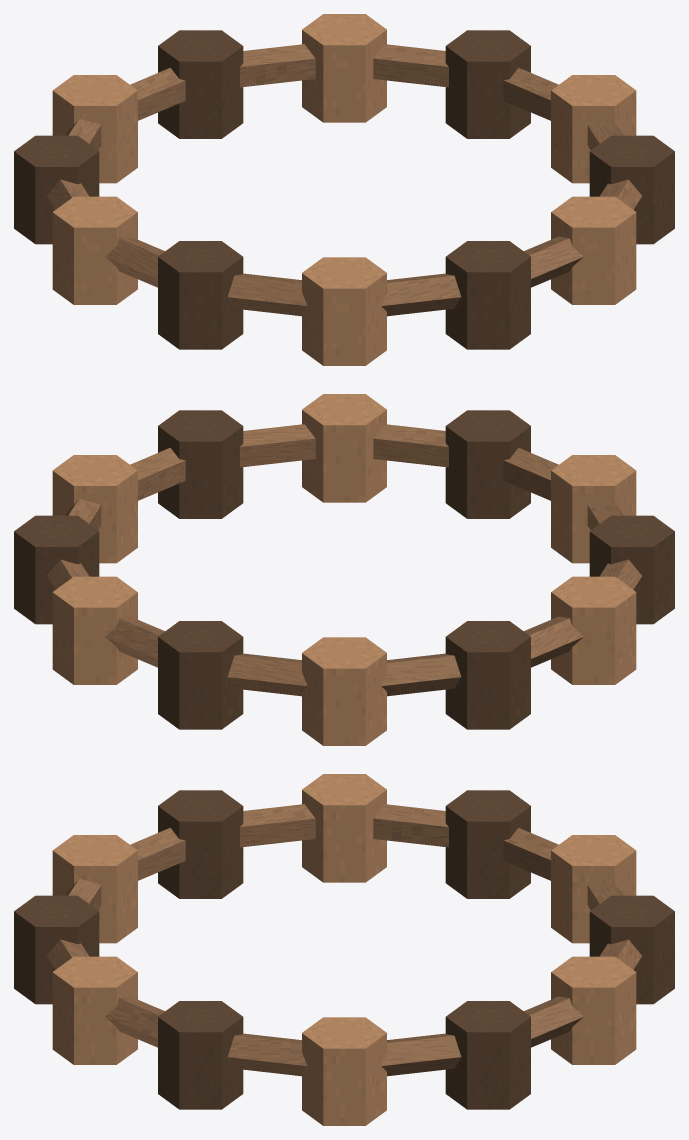
Rendered from bead_bracelet.glb.
3 views of the same model, one above another, from view 1: azimuth 30°, elevation 25°; view 2: azimuth 150°, elevation 25°; view 3: azimuth 270°, elevation 25° (orthographic).
Visible parts, largest first — view 1: block_bead 4, block_bead 3, block_bead 5, block_bead 10, block_bead 2, block_bead 6, block_bead 9, block_bead 11, block_bead 1, block_bead 7, block_bead 0, block_bead 8 (+12 smaller); view 2: block_bead 8, block_bead 7, block_bead 9, block_bead 2, block_bead 6, block_bead 10, block_bead 1, block_bead 3, block_bead 5, block_bead 11, block_bead 0, block_bead 4 (+12 smaller); view 3: block_bead 0, block_bead 1, block_bead 11, block_bead 6, block_bead 2, block_bead 10, block_bead 5, block_bead 7, block_bead 3, block_bead 9, block_bead 4, block_bead 8 (+12 smaller).
Boxes of the visible parts, box(x1,y1,x2,y2) form: block_bead 4: box(302, 257, 386, 365); block_bead 3: box(445, 241, 530, 349); block_bead 5: box(158, 241, 243, 349); block_bead 10: box(302, 14, 386, 122); block_bead 2: box(551, 196, 636, 304); block_bead 6: box(52, 196, 137, 304); block_bead 9: box(158, 30, 243, 138); block_bead 11: box(445, 30, 530, 138); block_bead 1: box(589, 135, 674, 244); block_bead 7: box(14, 135, 99, 244); block_bead 0: box(551, 75, 636, 183); block_bead 8: box(52, 75, 137, 183); block_bead 8: box(302, 637, 386, 745); block_bead 7: box(445, 621, 530, 729); block_bead 9: box(158, 621, 243, 729); block_bead 2: box(302, 394, 386, 502); block_bead 6: box(551, 576, 636, 684); block_bead 10: box(52, 576, 137, 684); block_bead 1: box(158, 410, 243, 518); block_bead 3: box(445, 410, 530, 518); block_bead 5: box(589, 515, 674, 624); block_bead 11: box(14, 515, 99, 624); block_bead 0: box(52, 455, 137, 563); block_bead 4: box(551, 455, 636, 563); block_bead 0: box(302, 1017, 386, 1125); block_bead 1: box(158, 1001, 243, 1109); block_bead 11: box(445, 1001, 530, 1109); block_bead 6: box(302, 774, 386, 882); block_bead 2: box(52, 956, 137, 1064); block_bead 10: box(551, 956, 636, 1064); block_bead 5: box(158, 790, 243, 898); block_bead 7: box(445, 790, 530, 898); block_bead 3: box(14, 895, 99, 1004); block_bead 9: box(589, 895, 674, 1004); block_bead 4: box(52, 835, 137, 943); block_bead 8: box(551, 835, 636, 943).
Size of the model in its own units: 0.0609 by 0.008 by 0.062.
Materials: 1 (1 with a texture image).
